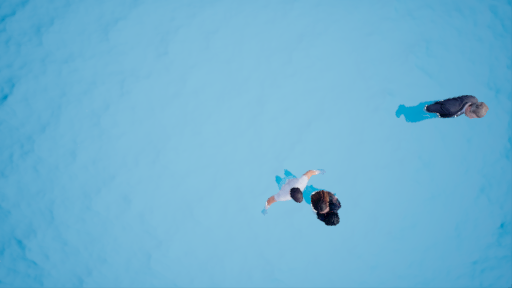person: (397, 85, 493, 125), (250, 157, 321, 203), (301, 183, 353, 235)
